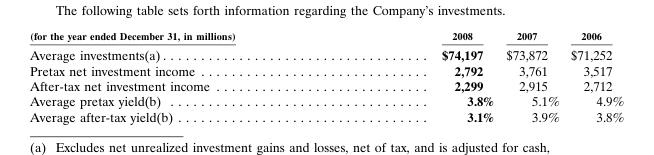table: (29, 29, 623, 124)
table column: (29, 29, 337, 124), (337, 29, 499, 124), (499, 29, 564, 124), (564, 29, 623, 124)
table column header: (29, 29, 623, 44)
table row: (29, 44, 623, 62), (29, 77, 623, 93), (29, 108, 623, 124), (29, 29, 623, 44), (29, 62, 623, 77), (29, 93, 623, 108)
